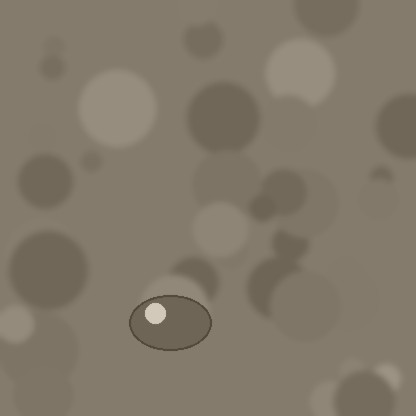gota: (129, 297, 211, 355)
